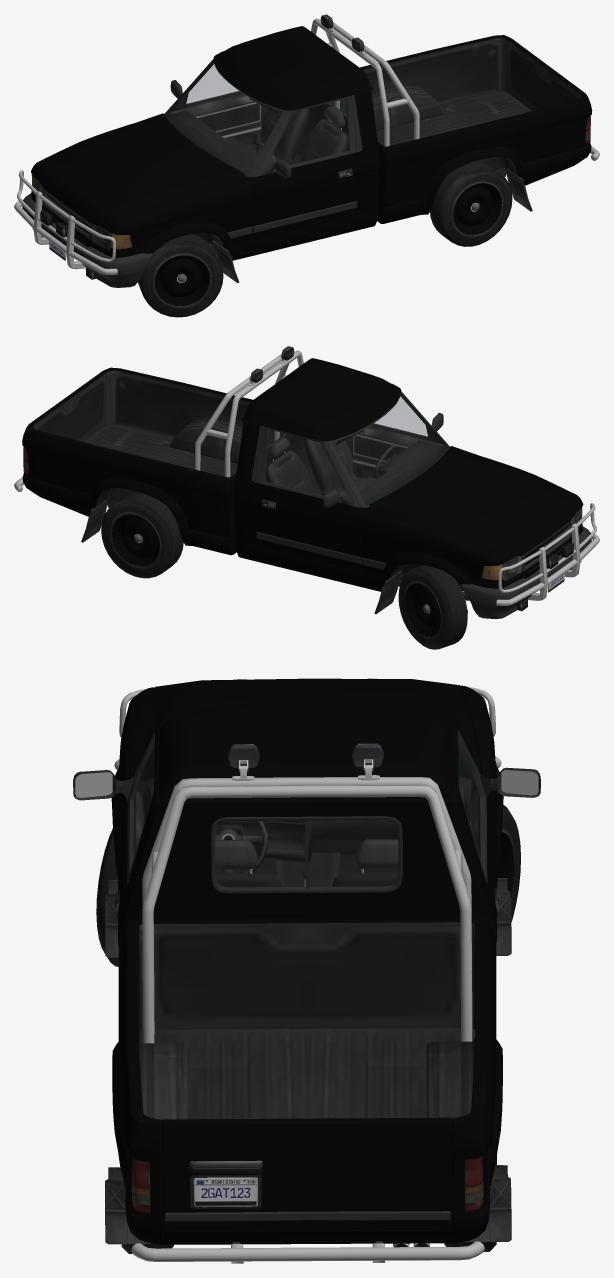
The model's file is pickup.glb.
3 views of the same model, one above another, from view 1: azimuth 30°, elevation 25°; view 2: azimuth 150°, elevation 25°; view 3: azimuth 270°, elevation 25° (orthographic). The views are drawn at different scales.
Parts seen in each view (by area): view 1: Body_cabin_body_0, hood_body_0, trunk_body_body_0, bottom_trunk_UCB_BOTTOM_0, Door_left_body_0, Windshield_UCB_GLASS_CLEAN_0, Wheel_FL_RB4_StampedEuro_black_0, Wheel_RL_RB4_StampedEuro_black_0, Door_glass_left_UCB_GLASS_CLEAN_0, Seats_GEN4DR_INTERIOR_0, Doorcard_right_GEN4DR_INTERIOR_0, Bullbar_UCB_BOTTOM_0 (+9 smaller); view 2: Body_cabin_body_0, trunk_body_body_0, hood_body_0, bottom_trunk_UCB_BOTTOM_0, Door_right_body_0, Windshield_UCB_GLASS_CLEAN_0, Wheel_RR_RB4_StampedEuro_black_0, Wheel_FR_RB4_StampedEuro_black_0, Door_glass_right_UCB_GLASS_CLEAN_0, Seats_GEN4DR_INTERIOR_0, Bullbar_UCB_BOTTOM_0, Trunk_door_inner_UCB_BOTTOM_0 (+9 smaller); view 3: bottom_trunk_UCB_BOTTOM_0, Body_cabin_body_0, Trunkdoor_body_0, trunk_body_body_0, rollcage_UCB_BOTTOM_0, Rear_glass_UCB_GLASS_CLEAN_0, hood_body_0, Dashboard_GEN4DR_INTERIOR_0, bumper_rear_UCB_BOTTOM_0, bottom_cabin_UCB_BOTTOM_0, Trunk_door_inner_UCB_BOTTOM_0, Seats_GEN4DR_INTERIOR_0 (+13 smaller).
Boxes of the visible parts, x1,y1,x2,y2 form: Body_cabin_body_0: [31, 26, 380, 260]; hood_body_0: [32, 113, 250, 230]; trunk_body_body_0: [359, 35, 592, 223]; bottom_trunk_UCB_BOTTOM_0: [331, 38, 580, 211]; Door_left_body_0: [251, 152, 358, 251]; Windshield_UCB_GLASS_CLEAN_0: [166, 61, 281, 173]; Wheel_FL_RB4_StampedEuro_black_0: [138, 234, 223, 317]; Wheel_RL_RB4_StampedEuro_black_0: [430, 161, 512, 246]; Door_glass_left_UCB_GLASS_CLEAN_0: [273, 99, 349, 169]; Seats_GEN4DR_INTERIOR_0: [247, 106, 348, 164]; Doorcard_right_GEN4DR_INTERIOR_0: [167, 61, 267, 144]; Bullbar_UCB_BOTTOM_0: [14, 170, 117, 274]; Body_cabin_body_0: [233, 358, 583, 591]; trunk_body_body_0: [22, 367, 252, 555]; hood_body_0: [363, 446, 581, 561]; bottom_trunk_UCB_BOTTOM_0: [33, 370, 284, 542]; Door_right_body_0: [255, 483, 362, 582]; Windshield_UCB_GLASS_CLEAN_0: [332, 393, 448, 504]; Wheel_RR_RB4_StampedEuro_black_0: [101, 493, 183, 578]; Wheel_FR_RB4_StampedEuro_black_0: [398, 565, 467, 649]; Door_glass_right_UCB_GLASS_CLEAN_0: [265, 430, 341, 495]; Seats_GEN4DR_INTERIOR_0: [265, 437, 376, 495]; Bullbar_UCB_BOTTOM_0: [496, 503, 599, 605]; Trunk_door_inner_UCB_BOTTOM_0: [34, 373, 106, 441]; bottom_trunk_UCB_BOTTOM_0: [105, 922, 511, 1244]; Body_cabin_body_0: [111, 685, 503, 944]; Trunkdoor_body_0: [162, 1117, 453, 1231]; trunk_body_body_0: [112, 917, 502, 1244]; rollcage_UCB_BOTTOM_0: [142, 743, 472, 1043]; Rear_glass_UCB_GLASS_CLEAN_0: [215, 820, 397, 887]; hood_body_0: [132, 678, 481, 777]; Dashboard_GEN4DR_INTERIOR_0: [142, 776, 471, 862]; bumper_rear_UCB_BOTTOM_0: [131, 1241, 484, 1263]; bottom_cabin_UCB_BOTTOM_0: [105, 816, 511, 957]; Trunk_door_inner_UCB_BOTTOM_0: [165, 1128, 452, 1221]; Seats_GEN4DR_INTERIOR_0: [211, 839, 402, 893].
Bounding box in the file's own units: 208 × 80.64 × 82.63.
Materials: 7 (6 with a texture image).
